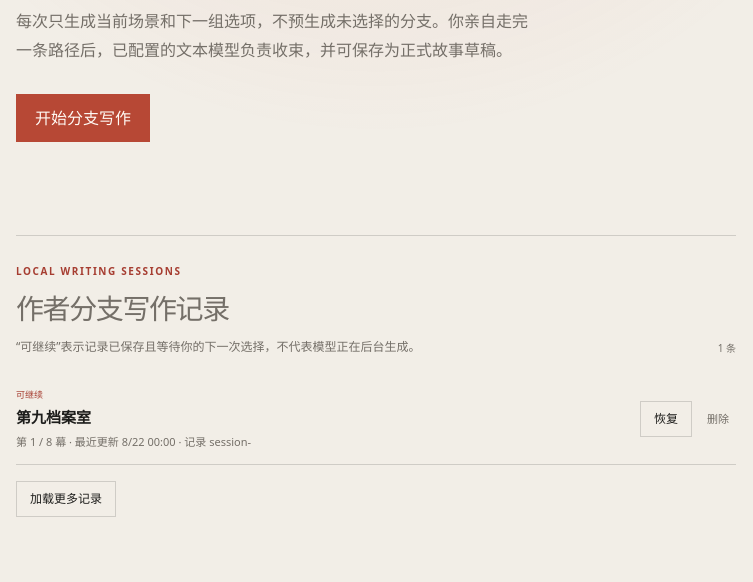
Scenario: InteractivePlayer › loads the next page of history without replacing the current page
This screenshot has width=753, height=582.
(page scrolled)
Expected: the button with aria-label "恢复第九档案室第 1 幕" is shown, 640,401 -> 692,437
Click the button "加载更多记录" at x=66, y=499, box 16,481 -> 116,517
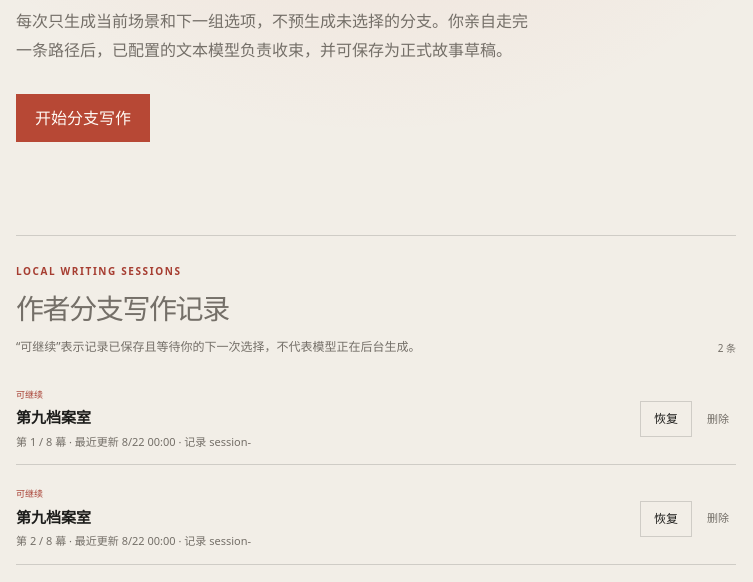
Expected: the button with aria-label "恢复第九档案室第 1 幕" is shown, 640,401 -> 692,437
Expected: the button with aria-label "恢复第九档案室第 2 幕" is shown, 640,500 -> 692,536
Expected: the button "加载更多记录" is gone
